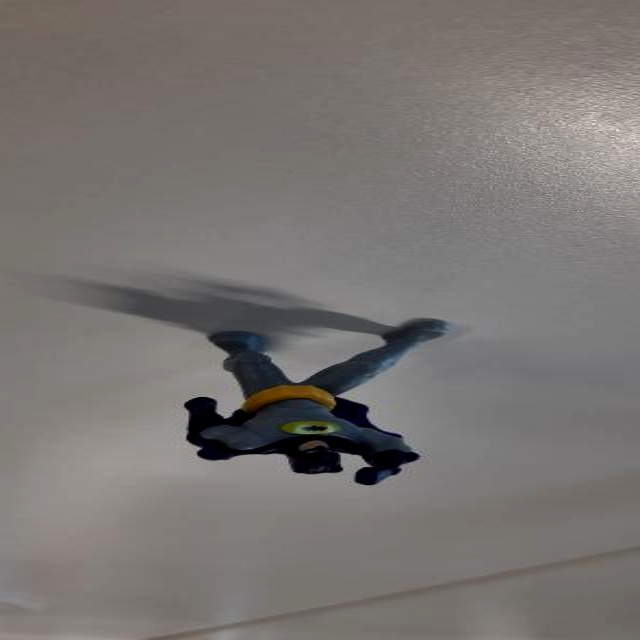Batman: (158, 306, 466, 482)
